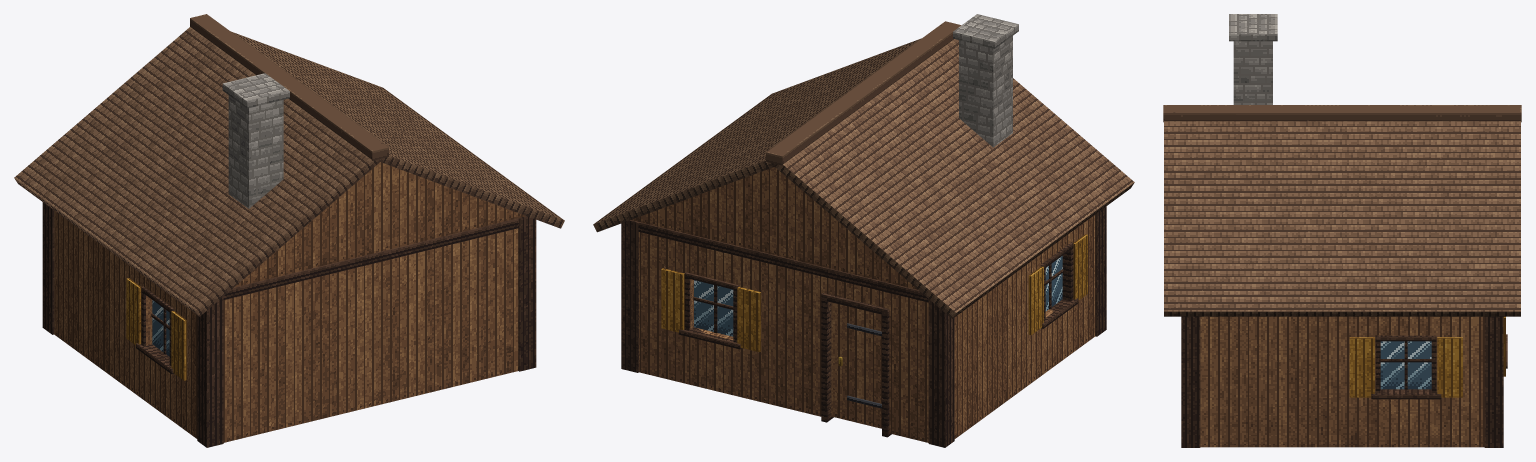
Rendered from house_planks.glb.
3 renders of one model, left to right at view 1: azimuth 30°, elevation 25°; view 2: azimuth 150°, elevation 25°; view 3: azimuth 270°, elevation 25°, orthographic.
Visible parts, largest first — view 1: house_planks; view 2: house_planks; view 3: house_planks.
Part boxes in pixels (box(x1,y1,x2,y2)): house_planks: box(14, 14, 564, 447); house_planks: box(593, 14, 1134, 447); house_planks: box(1163, 14, 1521, 447).
Size of the model in its own units: 6.57 by 5.37 by 5.62.
Materials: 8 (8 with a texture image).
